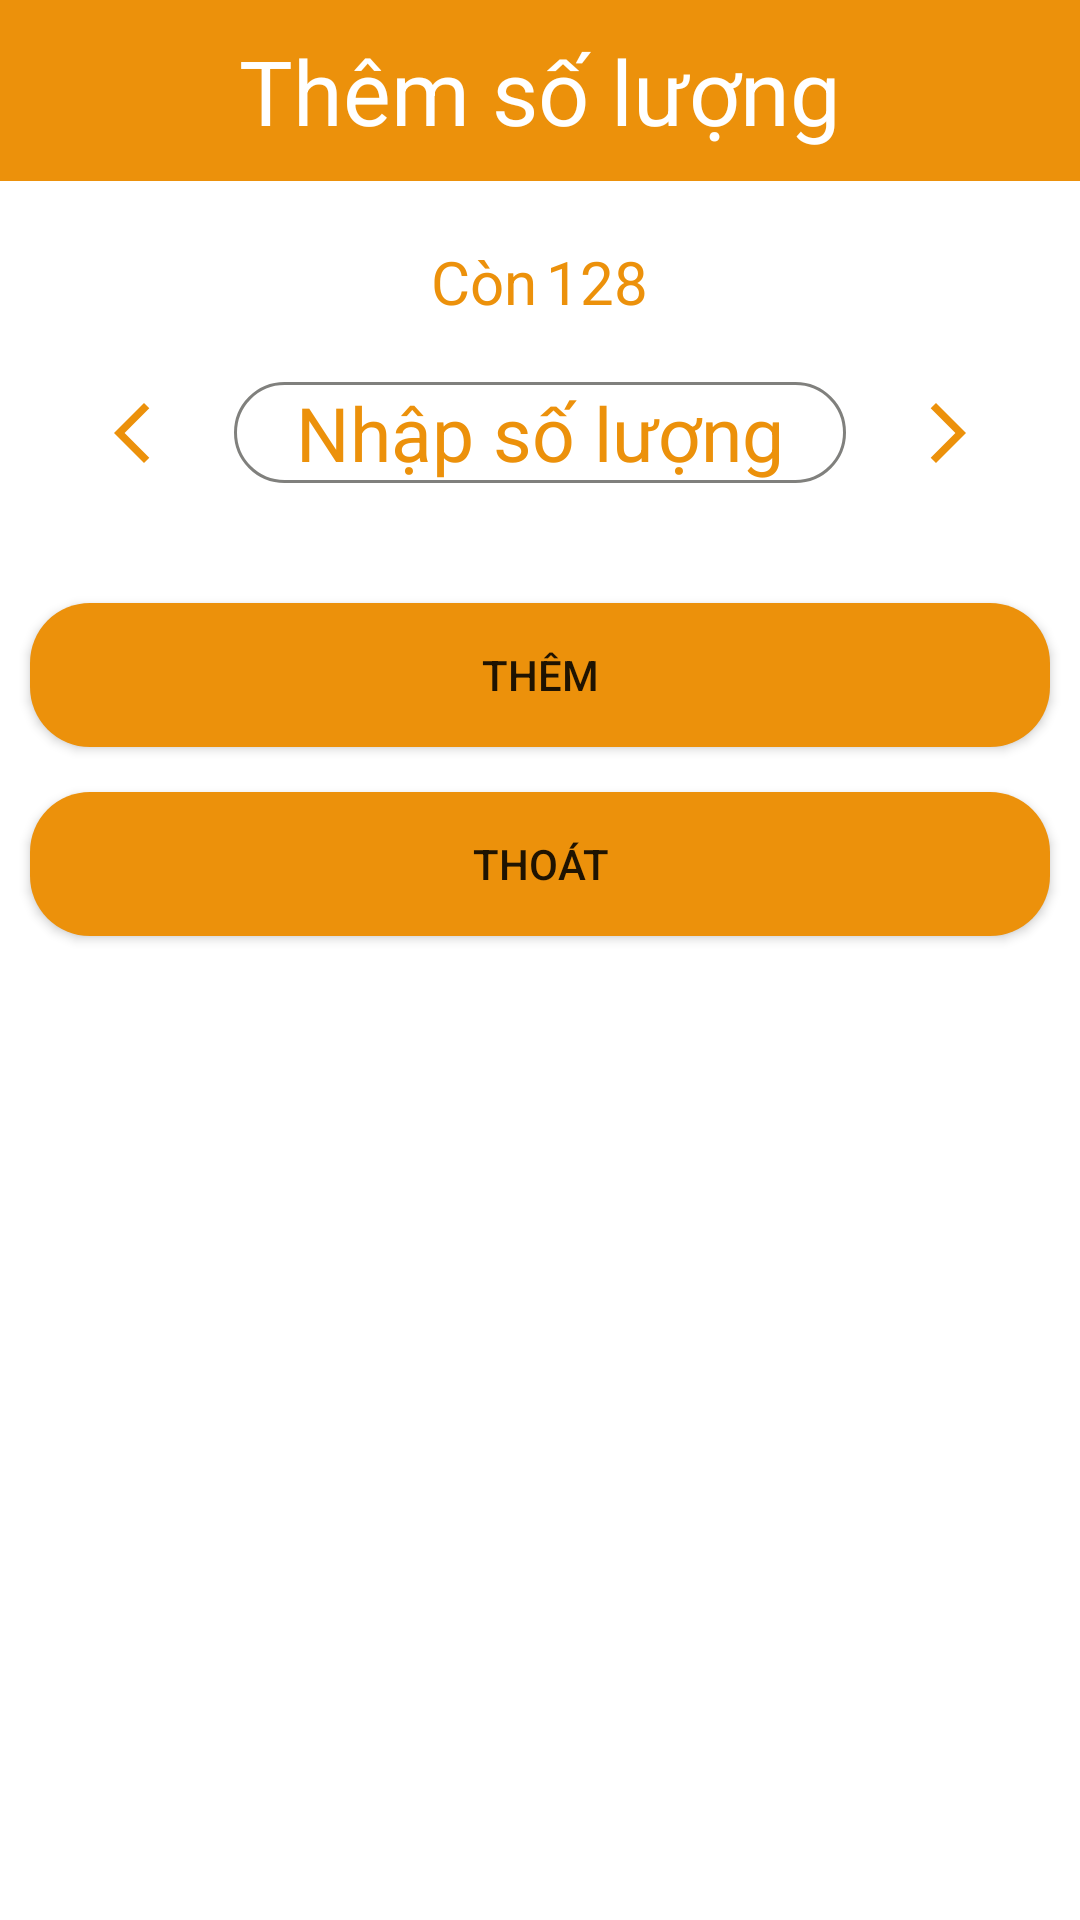

Where to tap for icons on this 1080x1920 app screen, as point (x, y):
next: point (948, 433)
previous: point (131, 433)
